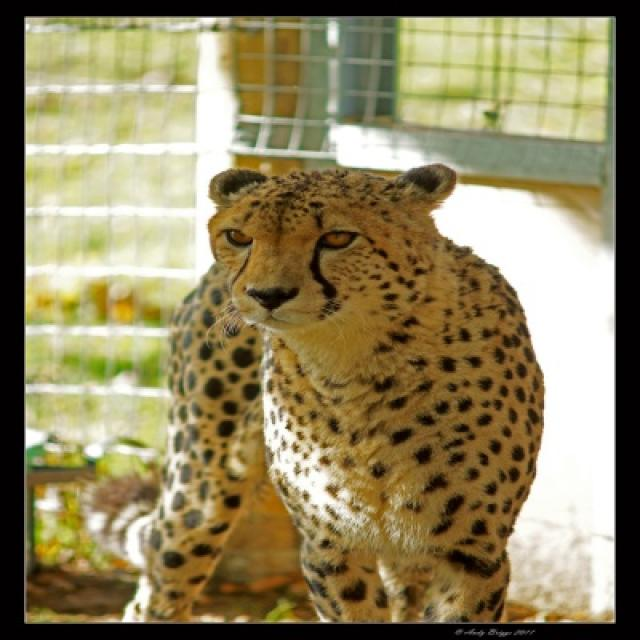Cheetah: (126, 165, 542, 621)
